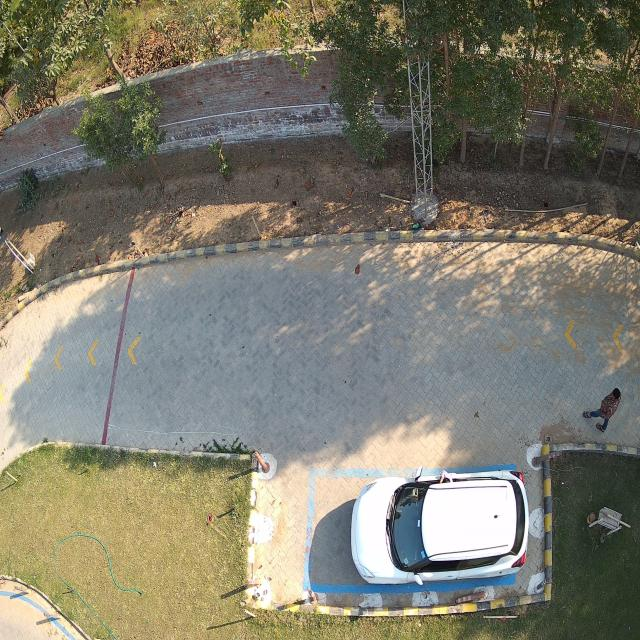car: (349, 469, 531, 587)
